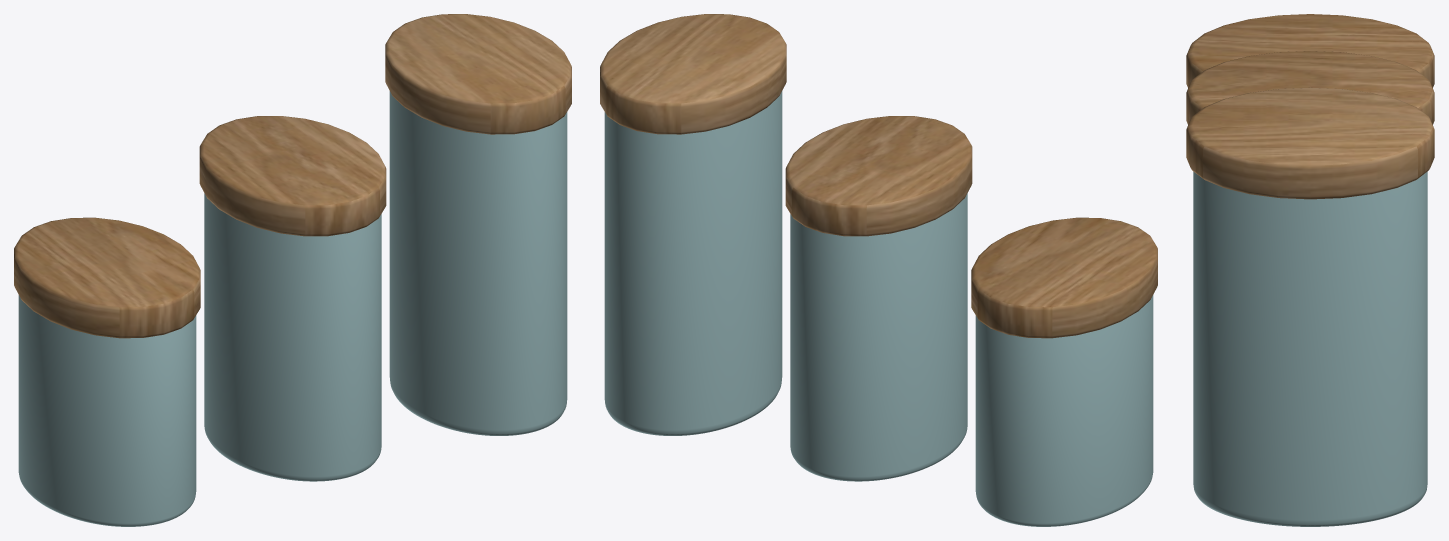
File: pantry-jars.glb
3 views of the same model, side by side, from view 1: azimuth 30°, elevation 25°; view 2: azimuth 150°, elevation 25°; view 3: azimuth 270°, elevation 25° (orthographic). The views are drawn at different scales.
Visible parts, largest first — view 1: catalog_surface_UVMap, catalog_surface_RealismUV; view 2: catalog_surface_UVMap, catalog_surface_RealismUV; view 3: catalog_surface_UVMap, catalog_surface_RealismUV.
Part boxes in pixels (<box>): catalog_surface_UVMap: <box>18,91,567,526</box>; catalog_surface_RealismUV: <box>14,14,571,338</box>; catalog_surface_UVMap: <box>604,91,1153,526</box>; catalog_surface_RealismUV: <box>600,14,1157,338</box>; catalog_surface_UVMap: <box>1193,171,1427,526</box>; catalog_surface_RealismUV: <box>1186,14,1434,199</box>.
Size of the model in its own units: 0.42 by 0.26 by 0.16.
2 materials, 1 textured.
